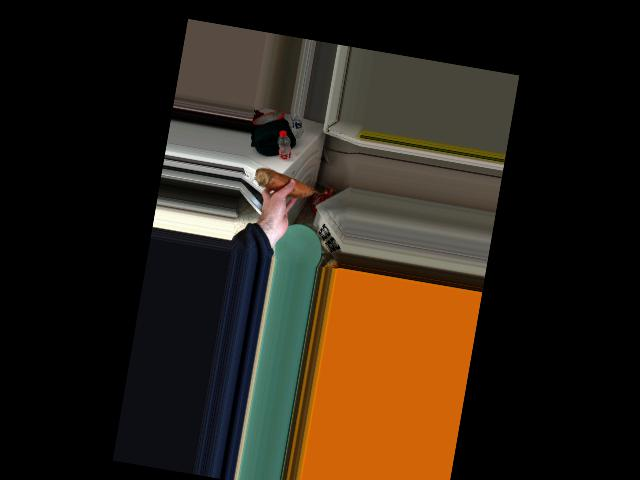sweet_potato: (252, 171, 317, 198)
